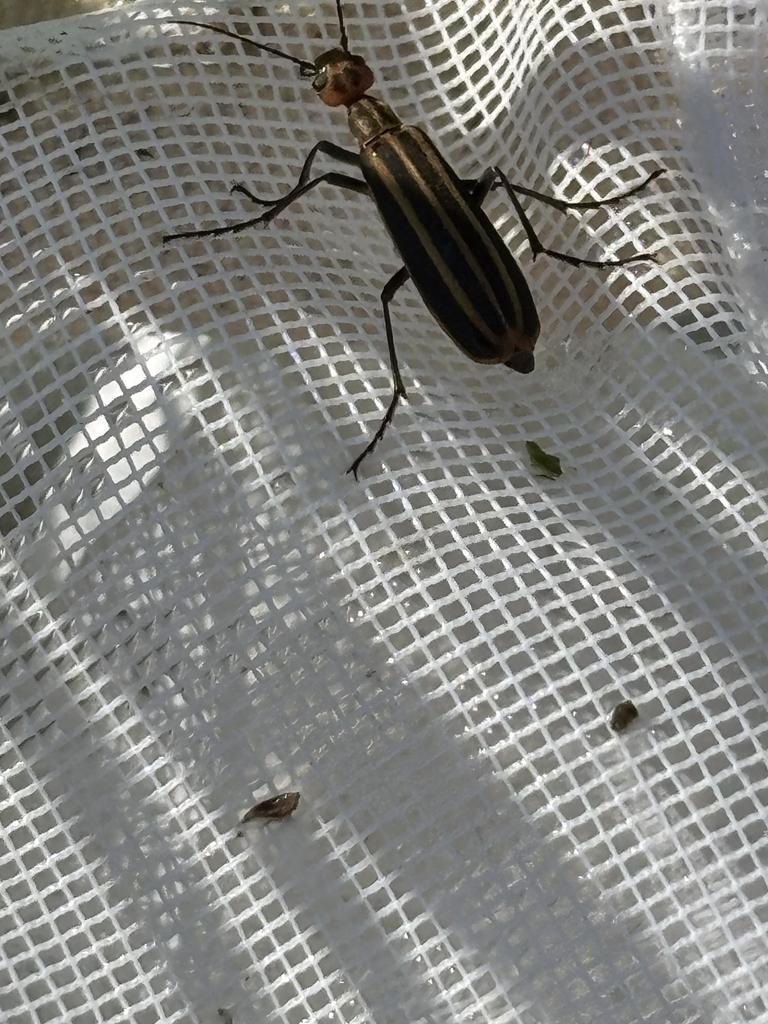blister_beetle: (115, 0, 725, 491)
